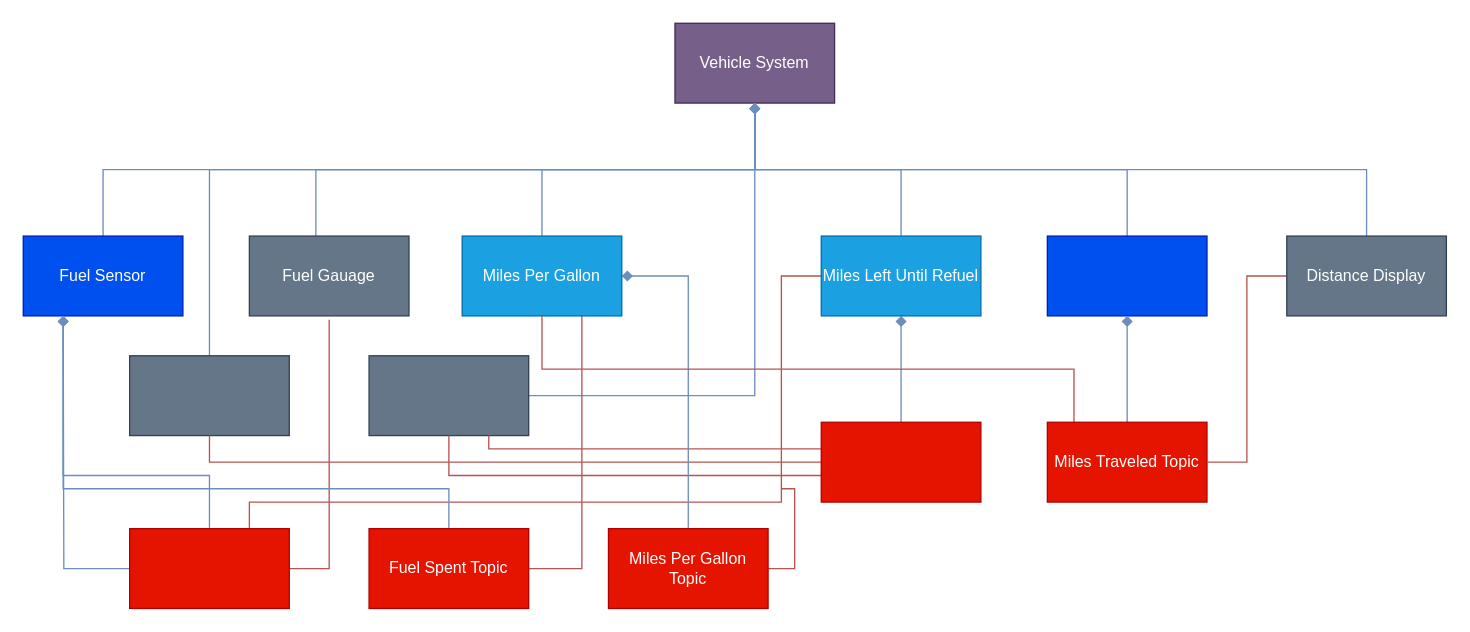
Some shapes in this 1470 by 632 pixel diagram are drawn without their labels. The centre of each missing label's shape, as x and y in pixels:
"Fuel Efficiency Monitor" goes at pixel 448 395.
"Fuel Remaining Topic" goes at pixel 208 567.
"Low Fuel Alert Monitor" goes at pixel 208 395.
"Miles Left Until Refuel Topic" goes at pixel 900 461.
"Miles Traveled Sensor" goes at pixel 1126 275.
